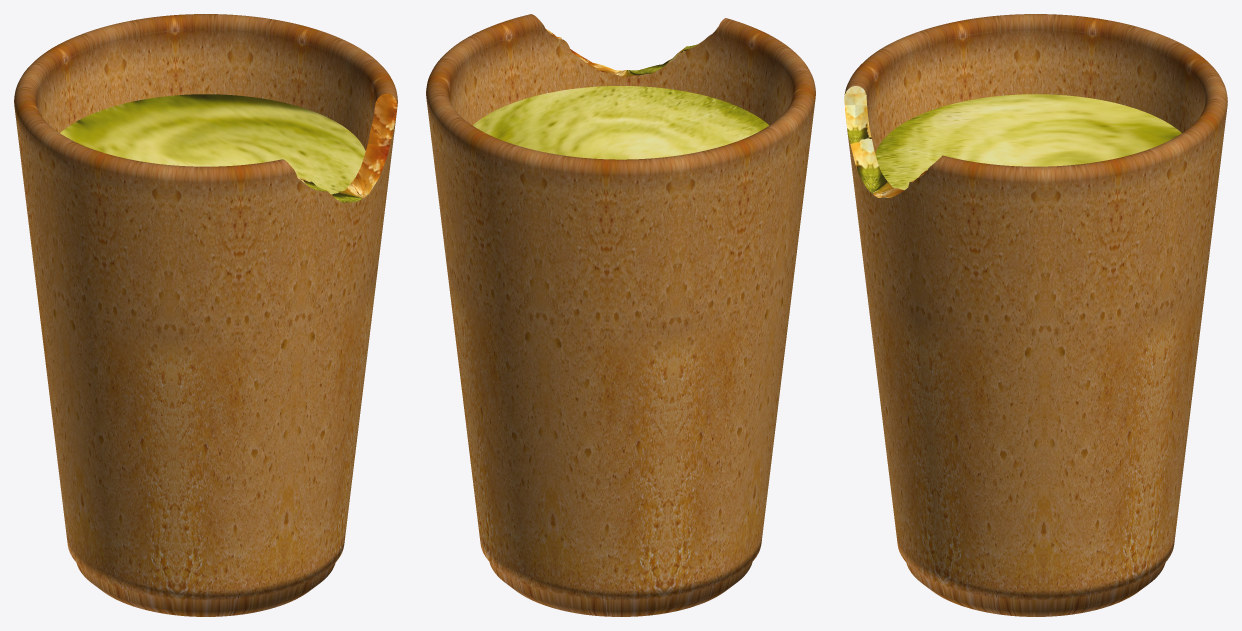
The model's file is cup_bitten.glb.
3 views of the same model, side by side, from view 1: azimuth 30°, elevation 25°; view 2: azimuth 150°, elevation 25°; view 3: azimuth 270°, elevation 25° (orthographic).
Parts seen in each view (by area): view 1: Cup, Latte; view 2: Cup, Latte; view 3: Cup, Latte.
Part boxes in pixels (left/top/right/bottom): Cup: left=14, top=14, right=397, bottom=616; Latte: left=60, top=94, right=365, bottom=194; Cup: left=426, top=14, right=815, bottom=616; Latte: left=472, top=86, right=768, bottom=159; Cup: left=844, top=14, right=1227, bottom=616; Latte: left=875, top=94, right=1181, bottom=190.
Size of the model in its own units: 1.71 by 2.35 by 1.71.
3 materials, 3 textured.
